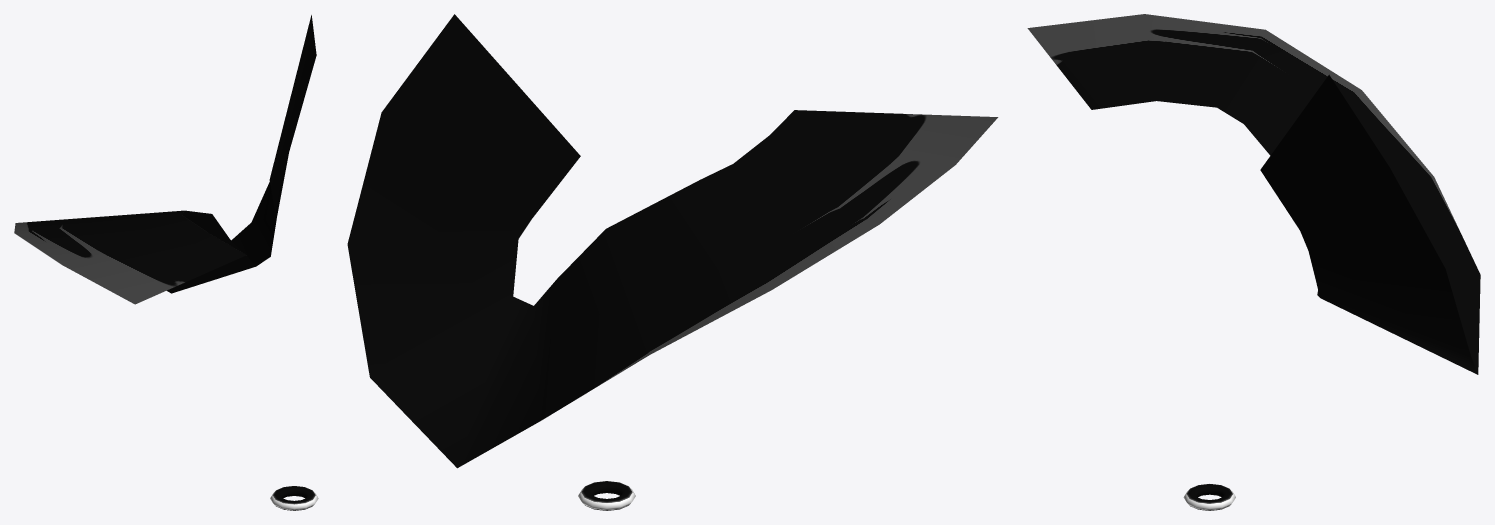
File: SLASH2.FBX
3 views of the same model, side by side, from view 1: azimuth 30°, elevation 25°; view 2: azimuth 150°, elevation 25°; view 3: azimuth 270°, elevation 25° (orthographic). The views are drawn at different scales.
Visible parts, largest first — view 1: Slash_, Torus001; view 2: Slash_, Torus001; view 3: Slash_, Torus001.
Boxes of the visible parts, x1,y1,x2,y2 form: Slash_: (14,15,316,304); Torus001: (270,486,318,510); Slash_: (347,14,998,468); Torus001: (578,481,635,510); Slash_: (1027,14,1480,374); Torus001: (1183,484,1235,510).
Size of the model in its own units: 399 by 443 by 391.
